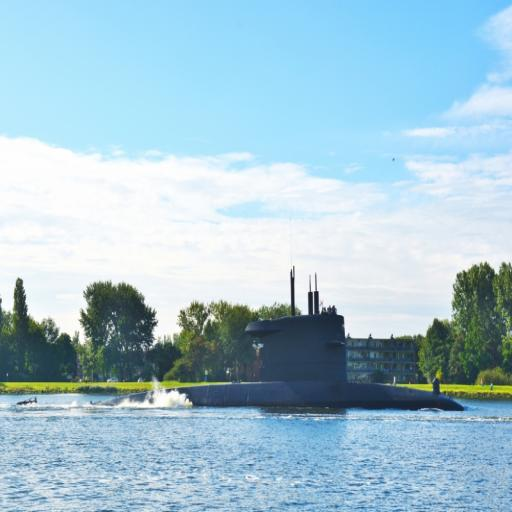submarine: (22, 268, 470, 415)
